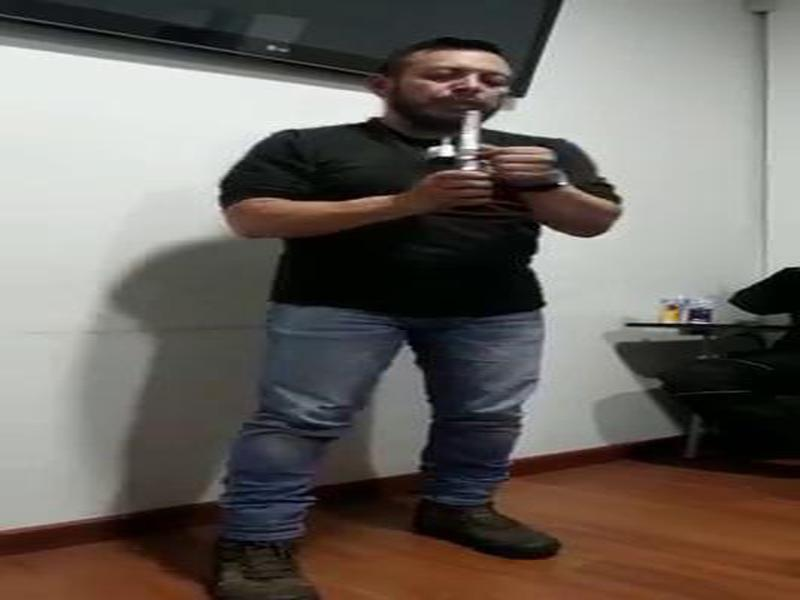Revolver: (427, 91, 521, 221)
